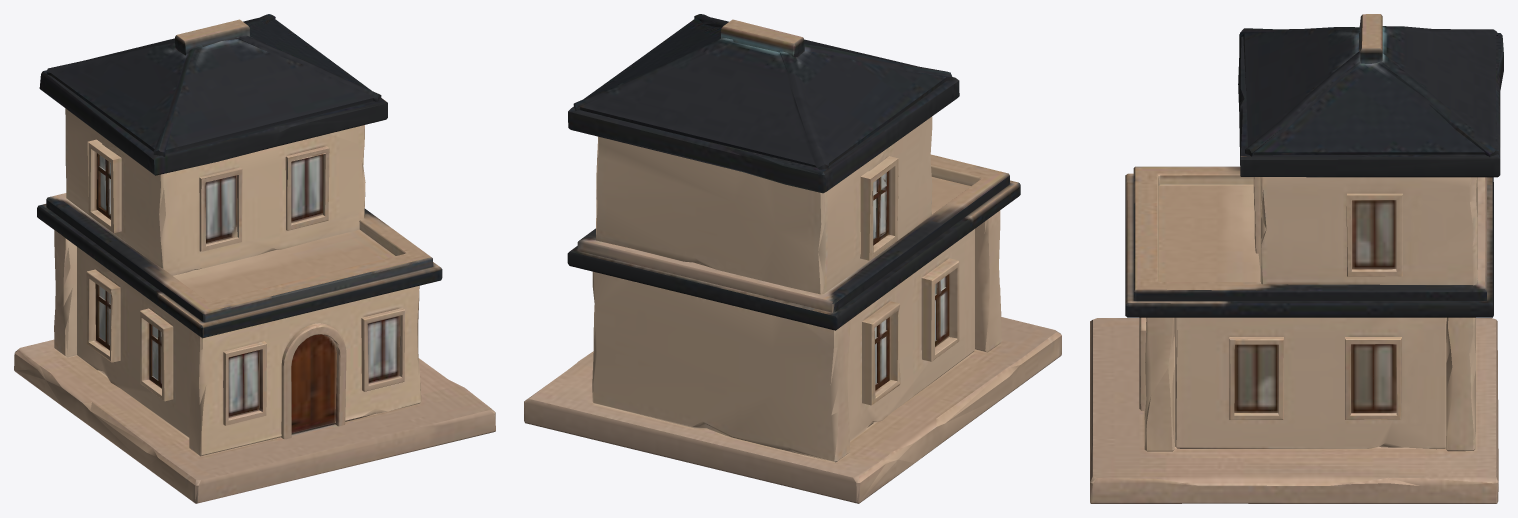
The model's file is city-dwelling-map.glb.
3 renders of one model, left to right at view 1: azimuth 30°, elevation 25°; view 2: azimuth 150°, elevation 25°; view 3: azimuth 270°, elevation 25°, orthographic. The views are drawn at different scales.
Bounding box in the file's own units: 0.8662 × 0.9536 × 0.9238.
1 material, 1 textured.
